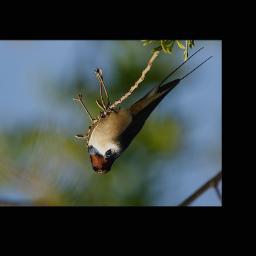Swallow: (88, 46, 213, 175)
